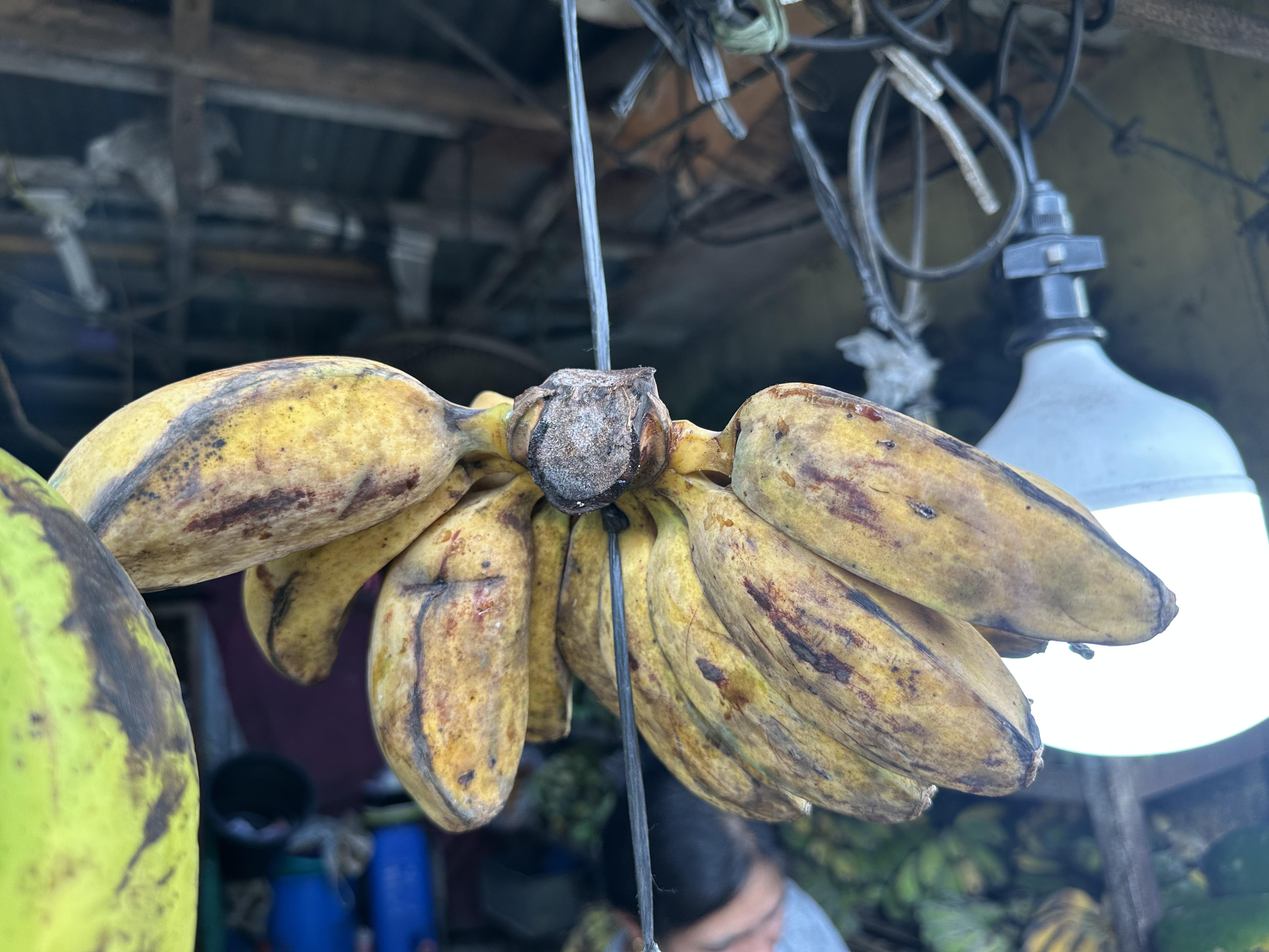ripe: (49, 357, 619, 831), (618, 383, 1177, 822)
